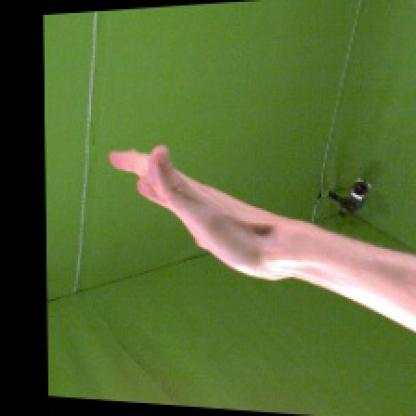Hand: (109, 145, 295, 280)
